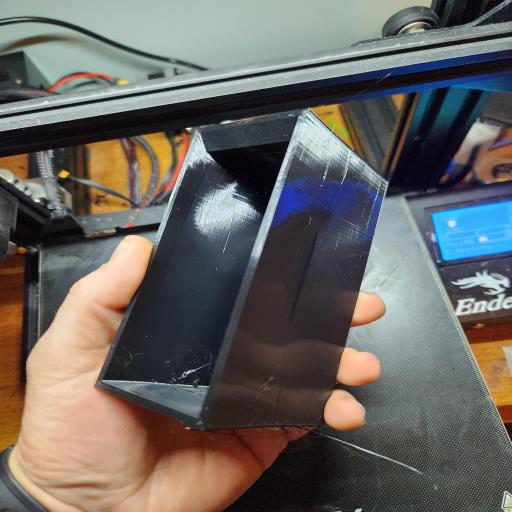cracks: (282, 216, 324, 340)
